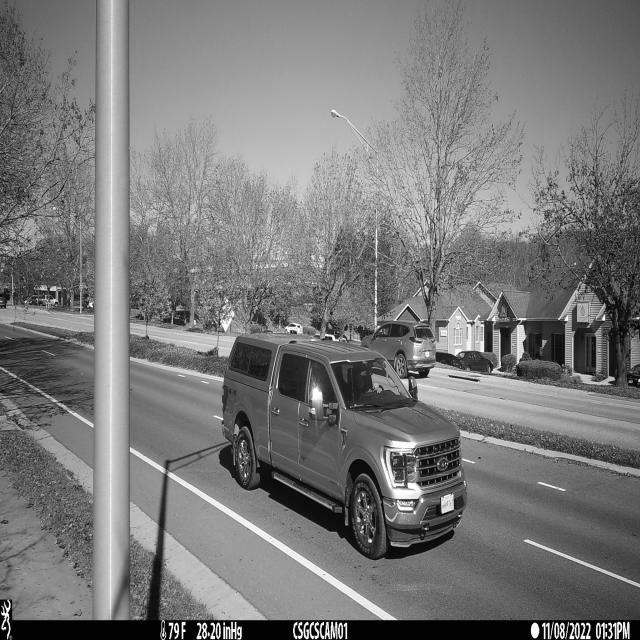Pickup: (217, 332, 467, 561)
